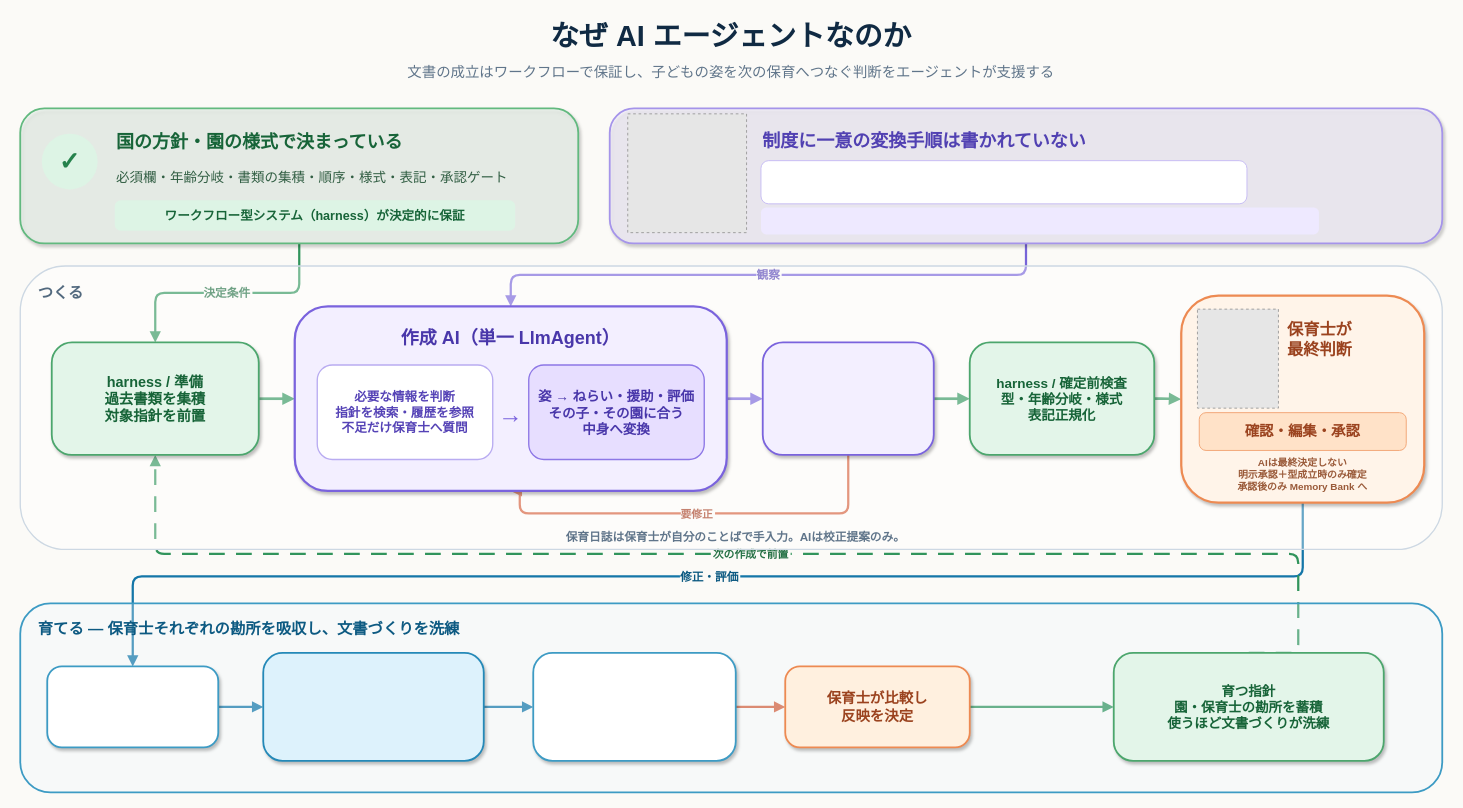
Some shapes in this 1463 by 808 pixel diagram are drawn without their labels. Grey dashed boxes stand in for pictures. The shapes that lost their labels are listed below. From the top down, each one's centre as x and y in pixels, then its label:
the point at 1003,182: 観察した「子どもの姿」 → ねらい・援助・評価
the point at 1039,220: ここが保育士の勘所。AIエージェントが状況に応じて支援
the point at 849,400: レビュー AI 指針・論理・表現を 別の観点で点検
the point at 133,708: 修正・👍👎 ひとこと
the point at 374,708: 改善エージェント 再利用できる勘所か判断 意味的競合を精査
the point at 635,708: 指針カードを提案 固有の感想なら 更新せず終了
